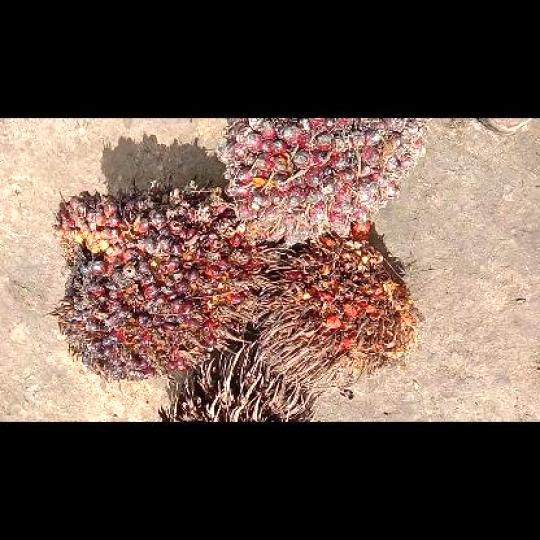kurang masak: (216, 118, 428, 245)
masak: (46, 177, 271, 381)
terlalu masak: (253, 220, 422, 390)
